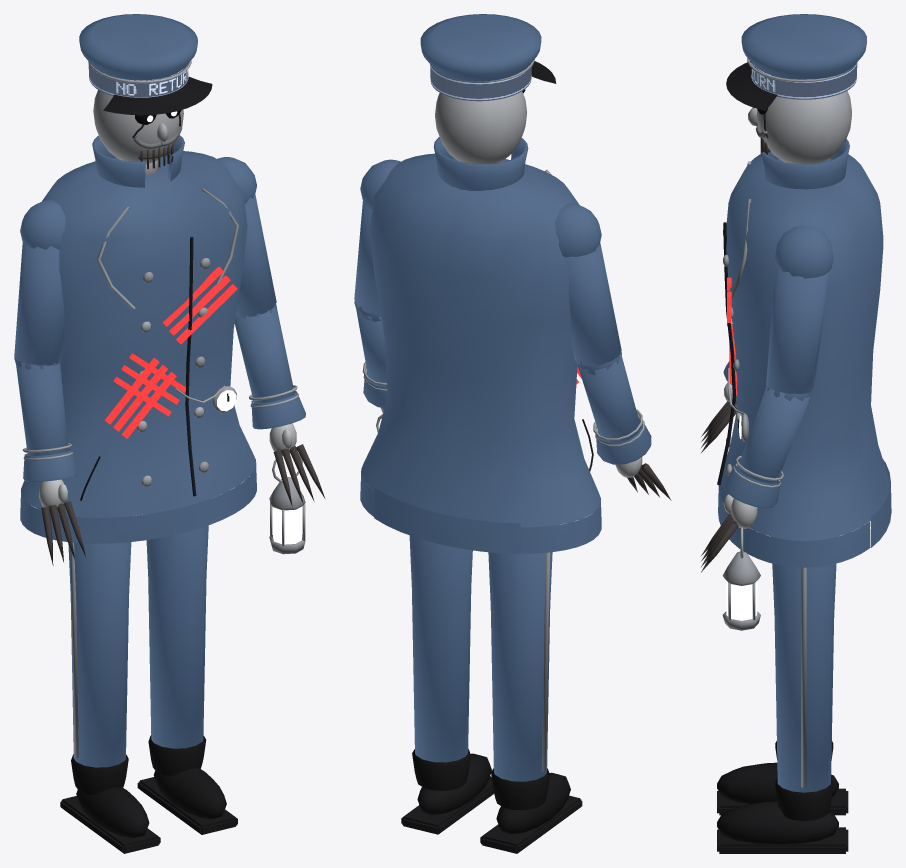
File: phantom_conductor.glb
3 views of the same model, side by side, from view 1: azimuth 30°, elevation 25°; view 2: azimuth 150°, elevation 25°; view 3: azimuth 270°, elevation 25° (orthographic). The views are drawn at different scales.
Parts seen in each view (by area): view 1: Conductor_Root_SpectralNavy, ArmA_SpectralNavy, LegLegB, LegLegA, ArmB_SpectralNavy, CapTop, LegB_BlackLeather, LegA_BlackLeather, Conductor_Root_HWound, Head_GhostSkin, Conductor_Root_GhostSilver, Peak (+9 smaller); view 2: Conductor_Root_SpectralNavy, LegLegB, LegLegA, ArmA_SpectralNavy, CapTop, Head_GhostSkin, LegA_BlackLeather, LegB_BlackLeather, ArmB_SpectralNavy, JacketTail, CapBand, StripeLegA (+1 smaller); view 3: Conductor_Root_SpectralNavy, ArmB_SpectralNavy, LegLegB, LegB_BlackLeather, CapTop, Head_GhostSkin, LegA_BlackLeather, ArmB_GhostSilver, CapBand, StripeLegB, Peak, Conductor_Root_GhostSilver (+7 smaller).
Boxes of the visible parts, box(x1,y1,x2,y2) form: Conductor_Root_SpectralNavy: box(20, 135, 256, 543); ArmA_SpectralNavy: box(14, 200, 77, 481); LegLegB: box(146, 507, 208, 748); LegLegA: box(68, 516, 131, 767); ArmB_SpectralNavy: box(217, 157, 305, 429); CapTop: box(79, 14, 197, 80); LegB_BlackLeather: box(137, 735, 237, 834); LegA_BlackLeather: box(60, 754, 160, 853); Conductor_Root_HWound: box(104, 266, 237, 438); Head_GhostSkin: box(93, 76, 183, 175); Conductor_Root_GhostSilver: box(78, 188, 238, 517); Peak: box(103, 76, 212, 115); Conductor_Root_SpectralNavy: box(360, 137, 601, 553); LegLegB: box(409, 535, 472, 762); LegLegA: box(488, 525, 552, 781); ArmA_SpectralNavy: box(555, 203, 651, 464); CapTop: box(420, 14, 541, 81); Head_GhostSkin: box(435, 91, 526, 164); LegA_BlackLeather: box(480, 768, 582, 853); LegB_BlackLeather: box(401, 749, 493, 834); ArmB_SpectralNavy: box(354, 159, 400, 407); JacketTail: box(374, 488, 520, 554); CapBand: box(430, 64, 531, 101); StripeLegA: box(542, 552, 550, 771); Conductor_Root_SpectralNavy: box(718, 139, 889, 567); ArmB_SpectralNavy: box(723, 226, 833, 508); LegLegB: box(772, 538, 836, 792); LegB_BlackLeather: box(717, 778, 848, 853); CapTop: box(741, 14, 866, 79); Head_GhostSkin: box(748, 75, 851, 164); LegA_BlackLeather: box(717, 740, 848, 815); ArmB_GhostSilver: box(722, 455, 784, 630); CapBand: box(751, 62, 857, 99); StripeLegB: box(801, 567, 806, 788); Peak: box(726, 61, 777, 110); Conductor_Root_GhostSilver: box(723, 161, 751, 475).
Bounding box in the file's own units: 0.6775 × 1.82 × 0.3975.
17 materials, 1 textured.
